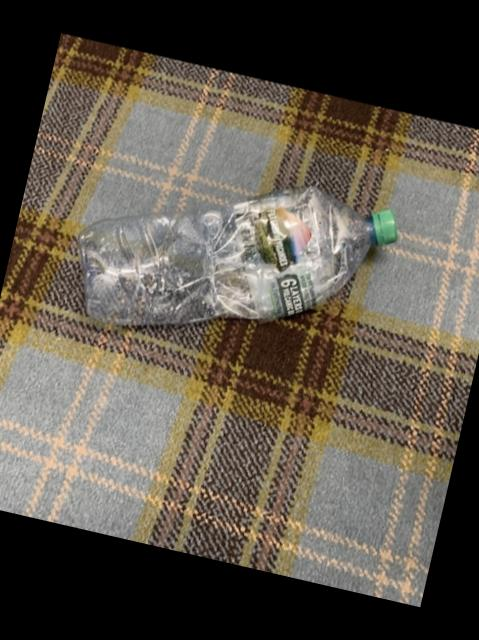plastic: (76, 187, 394, 325)
